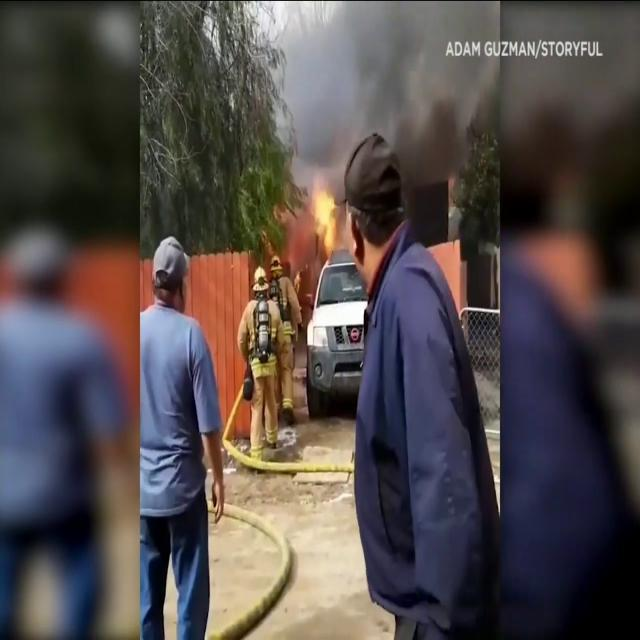Fire: (312, 182, 344, 254)
Smoke: (274, 1, 492, 172)
